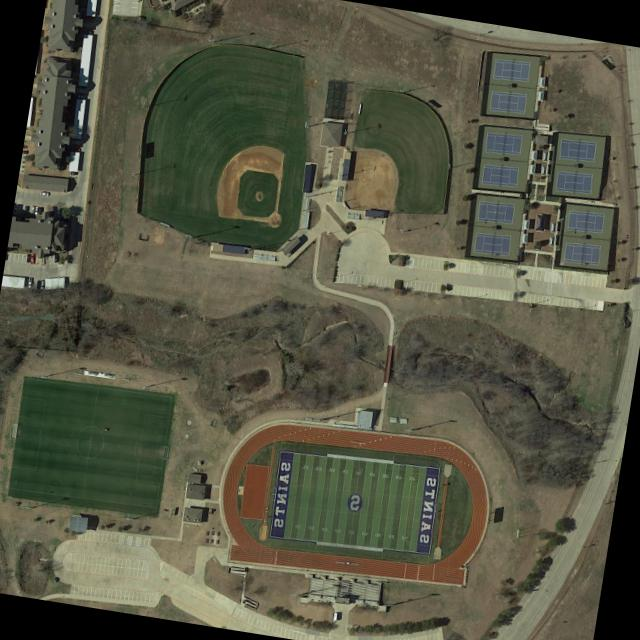small-vehicle: (30, 253, 35, 263), (50, 205, 55, 215), (40, 190, 49, 195), (71, 146, 80, 151), (28, 276, 32, 287), (41, 279, 45, 288), (34, 205, 38, 214), (37, 279, 41, 288), (78, 93, 85, 98), (84, 29, 92, 33), (27, 253, 31, 261), (70, 170, 78, 174), (24, 206, 27, 214), (39, 206, 42, 214), (85, 15, 92, 18)
